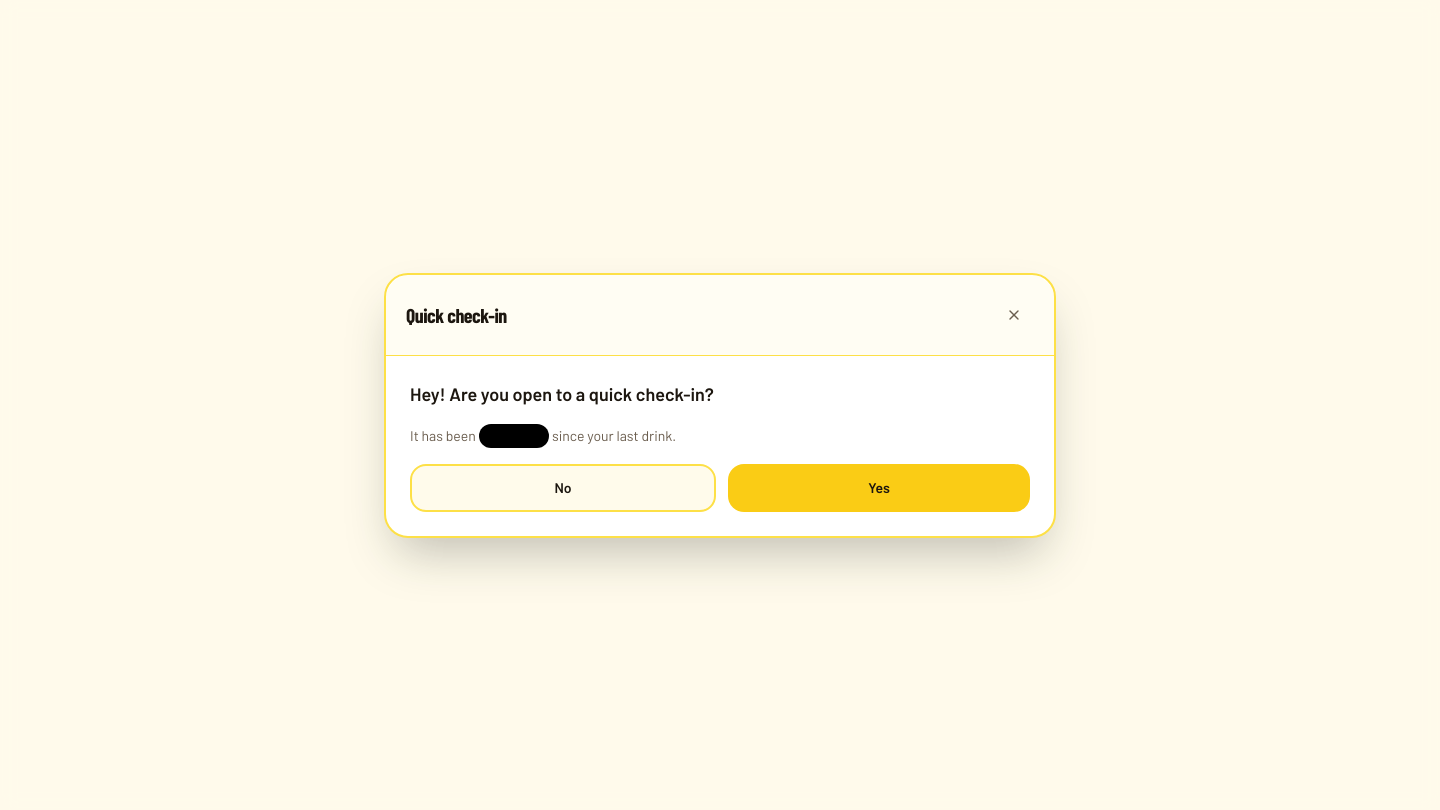
Test: NotesCheckIn › shows N/A when there is no previous drink and reveals it on demand
Expected: the text "It has been redacted since your last drink." is shown, [410, 424, 676, 448]
Click the button with aria-label "reveal time since last drink" at (514, 436), box [479, 424, 549, 448]
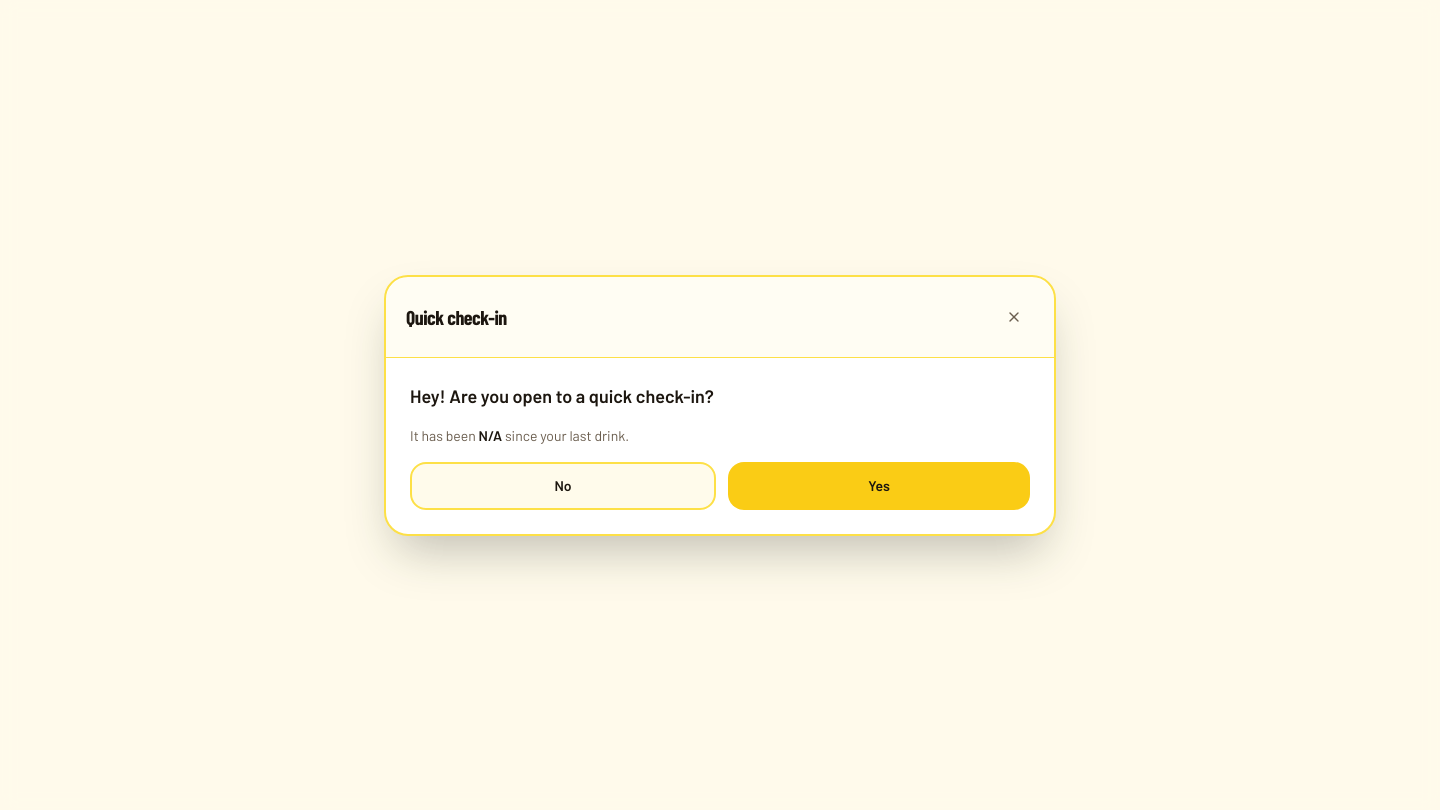
Expected: the text "It has been N/A since your last drink." is shown, [410, 426, 629, 444]
Result: the text "N/A" is shown at [479, 426, 502, 444]
